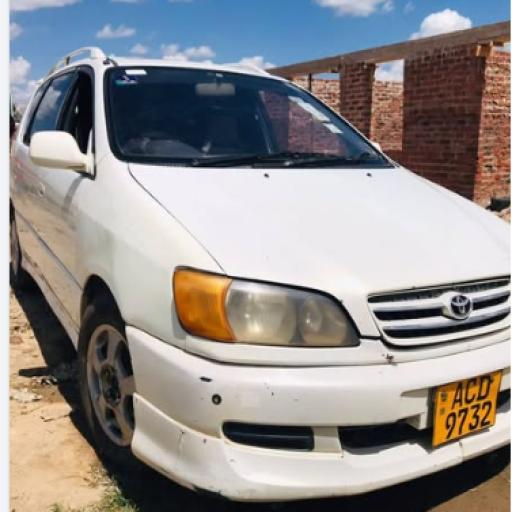number-plates: (435, 373, 500, 437)
